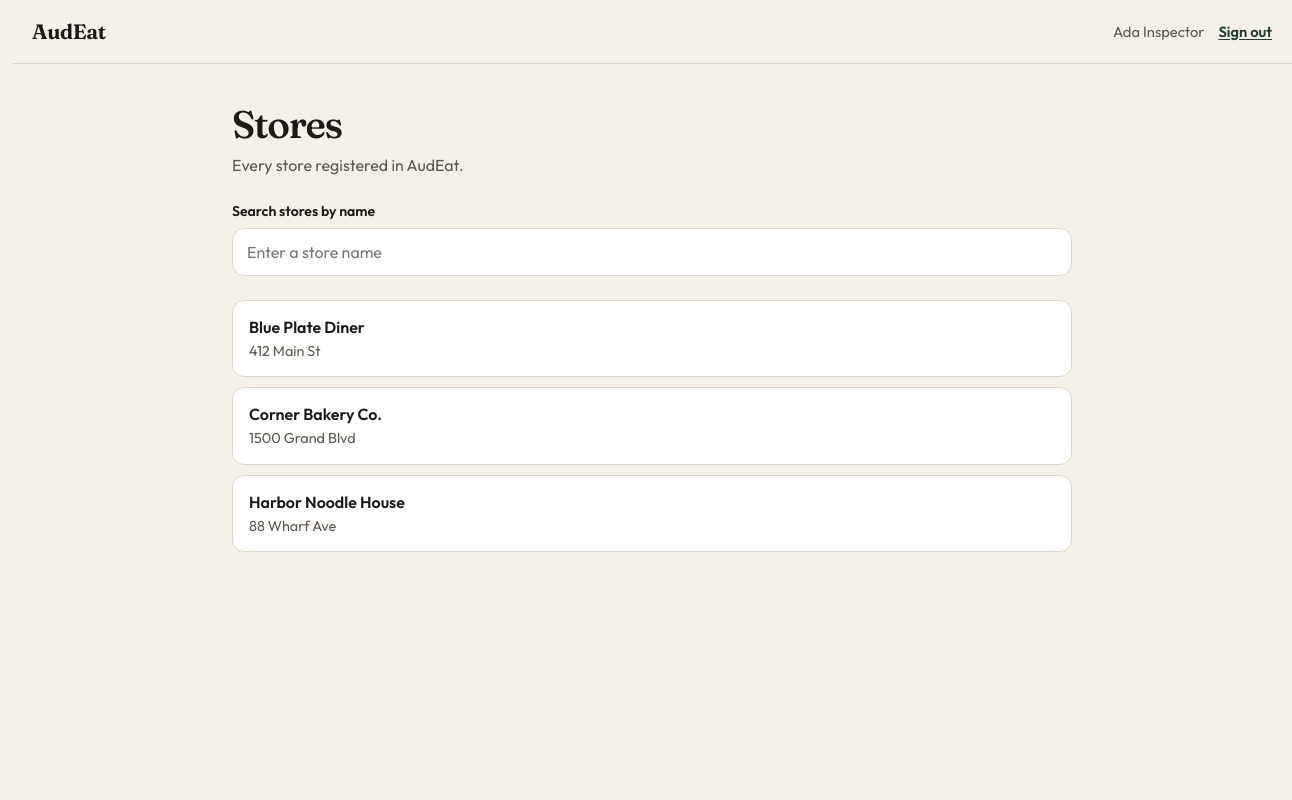
Test: US 13 Log in › signs out and returns to the login page
Click the button "Sign out" at (1245, 32), box [1218, 20, 1272, 43]
(page scrolled)
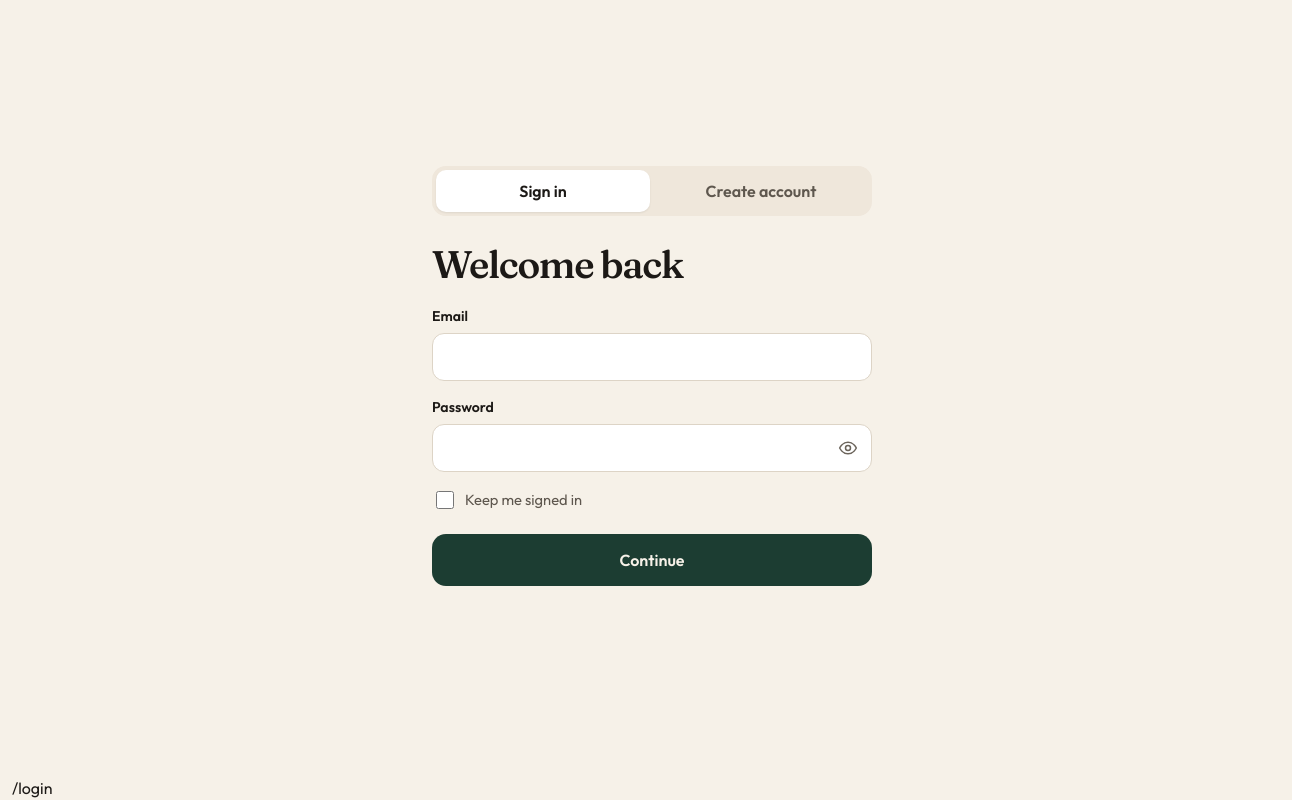
Check: the text with test id "location" reads "/login", box [12, 778, 52, 798]
